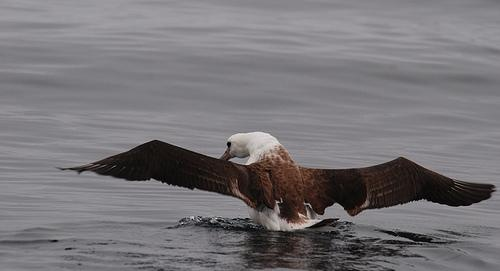bird: (59, 131, 498, 226)
